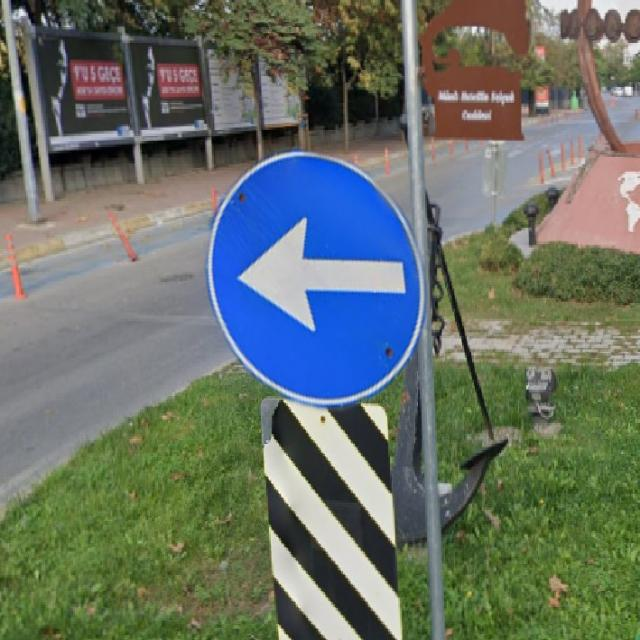Turn Left: (196, 158, 422, 397)
